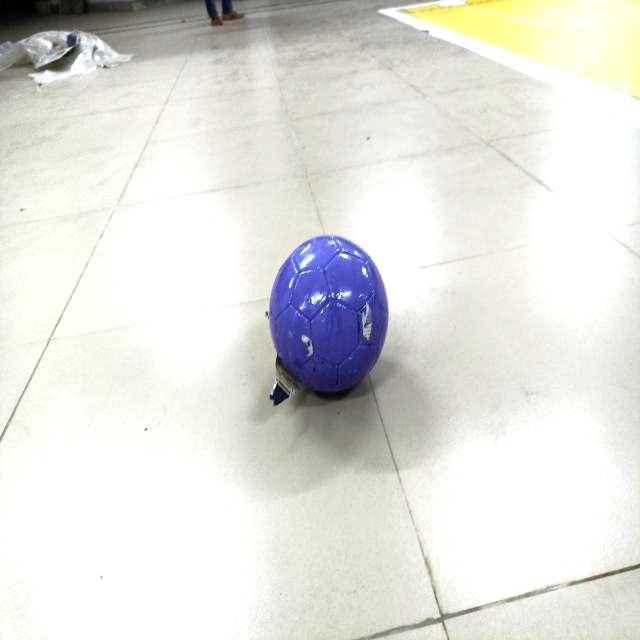purple_ball: (270, 238, 386, 386)
